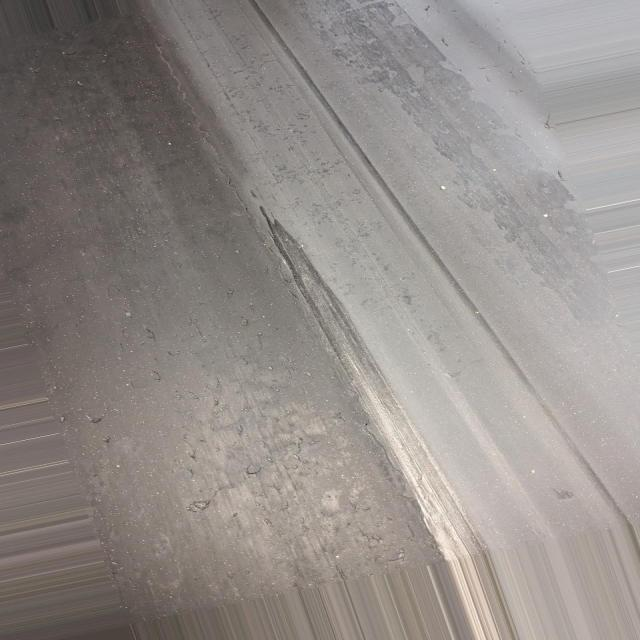Wear: (245, 178, 486, 558)
